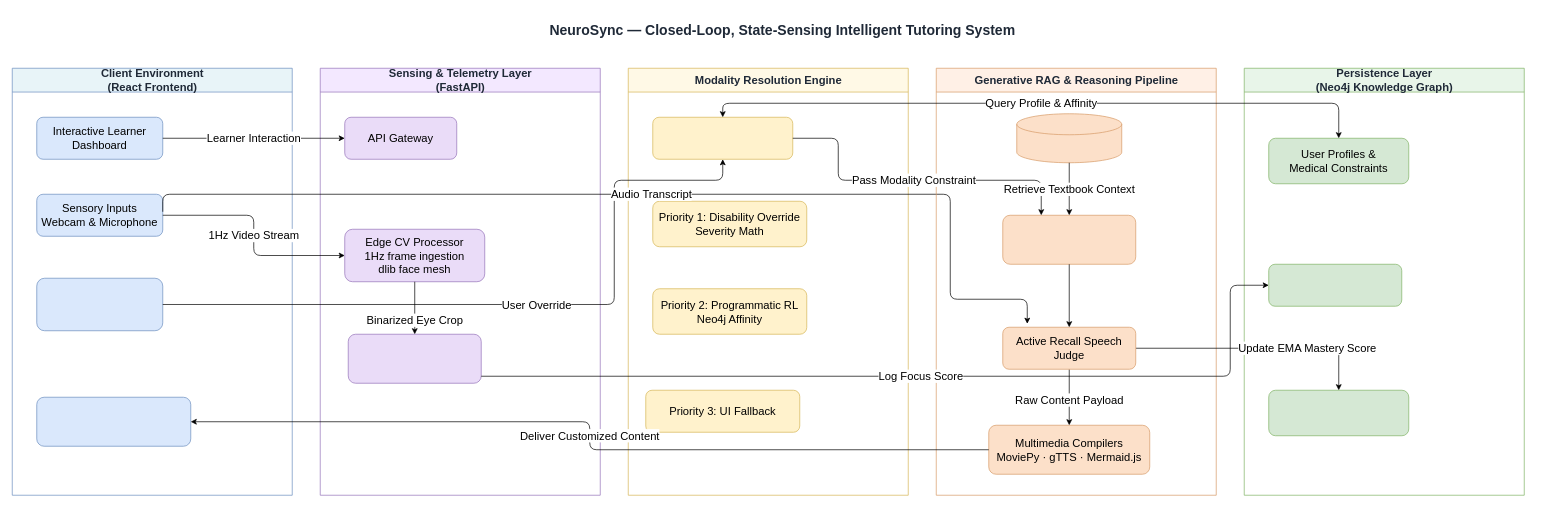
Some shapes in this 1565 by 508 pixel diagram are drawn without their labels. The shapes that lost their labels are listed below. From the top down, each one's centre as x and y in pixels, then its label:
the point at 722,138: 3-Tier Priority Resolver
the point at 1069,138: FAISS Vector DB Textbook embeddings
the point at 1069,239: Groq LLM Reasoner Llama 3.1
the point at 99,304: Explicit Controls Granularity Slider Disability Profile
the point at 1335,285: Telemetry & Focus Logs
the point at 414,358: Focus Score Calculator Gaze Ratio extraction
the point at 113,421: Adaptive Output Display Text · Video · Diagram · Audio
the point at 1338,413: Concept Mastery Tracker EMA Algorithm
